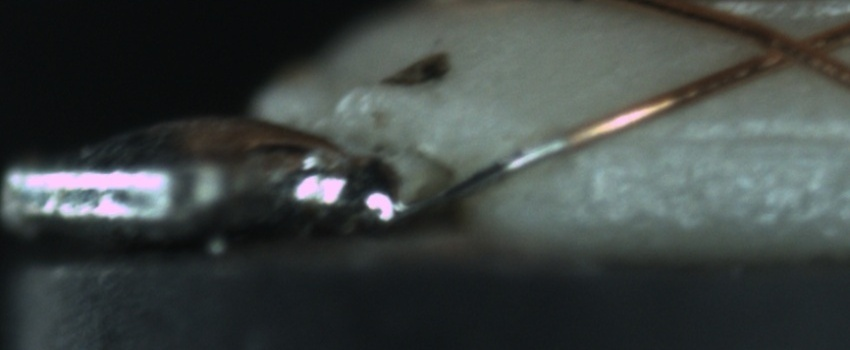CL: (747, 18, 840, 77)
DL: (609, 104, 847, 175)
TS: (383, 133, 570, 223)
